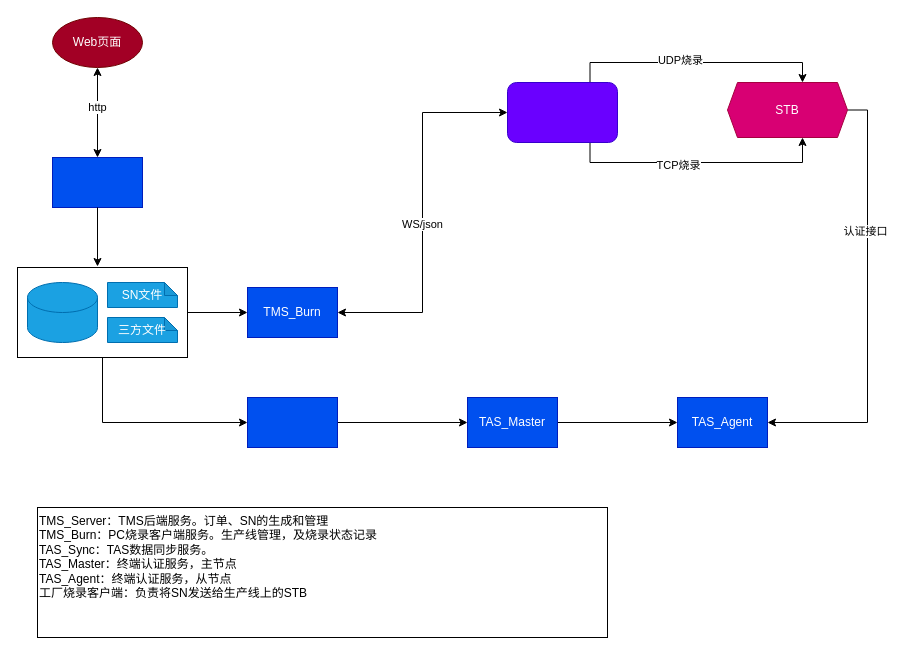
The diagram is 904 pixels wide and 655 high, and some of its shapes have lost their labels. The shapes that lost their labels are listed below. From the top down, each one's centre as x and y in pixels, then its label:
the point at 562,112: 工厂烧录客户端
the point at 97,182: TMS_Server
the point at 62,312: 数据库
the point at 292,422: TAS_Sync
